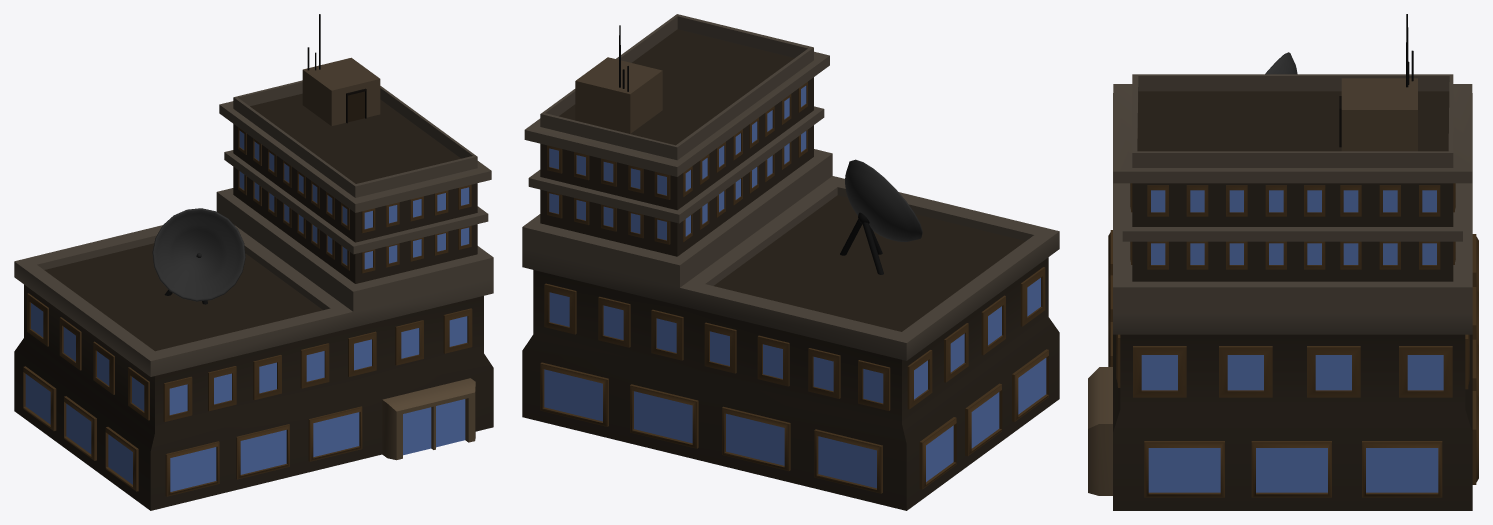
The model's file is BoxBuilding 03.fbx.
3 views of the same model, side by side, from view 1: azimuth 30°, elevation 25°; view 2: azimuth 150°, elevation 25°; view 3: azimuth 270°, elevation 25° (orthographic). The views are drawn at different scales.
Parts seen in each view (by area): view 1: Box_Building_3; view 2: Box_Building_3; view 3: Box_Building_3.
Part boxes in pixels (x1=…): Box_Building_3: x1=14, y1=14, x2=493, y2=510; Box_Building_3: x1=522, y1=14, x2=1059, y2=510; Box_Building_3: x1=1088, y1=14, x2=1478, y2=510.
Size of the model in its own units: 2141 by 2019 by 1566.
